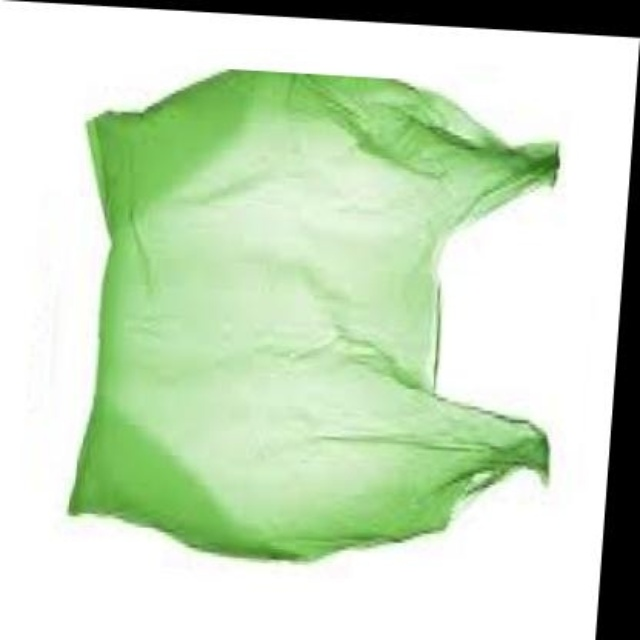trash: (69, 71, 558, 558)
